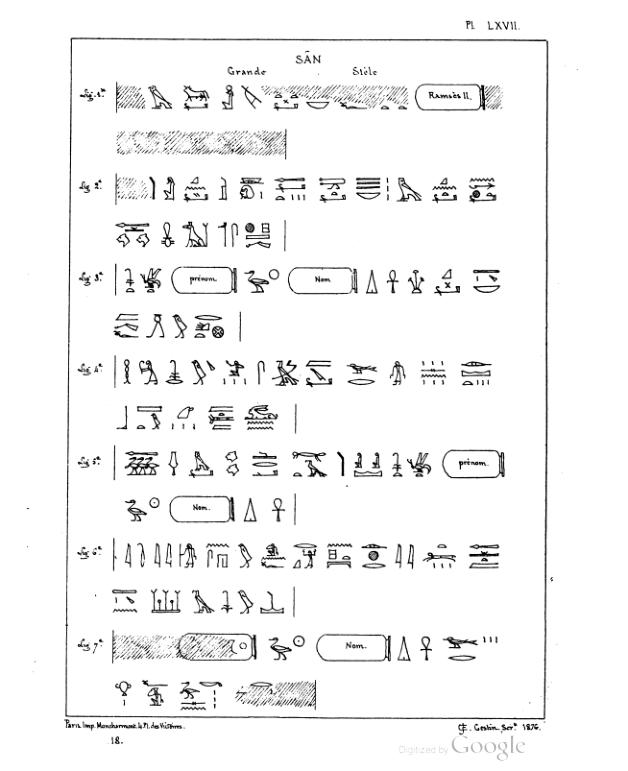circle: (311, 628, 395, 671), (437, 443, 507, 488), (174, 629, 264, 663), (282, 263, 362, 299), (411, 79, 487, 116), (168, 263, 243, 300), (166, 492, 240, 526)
